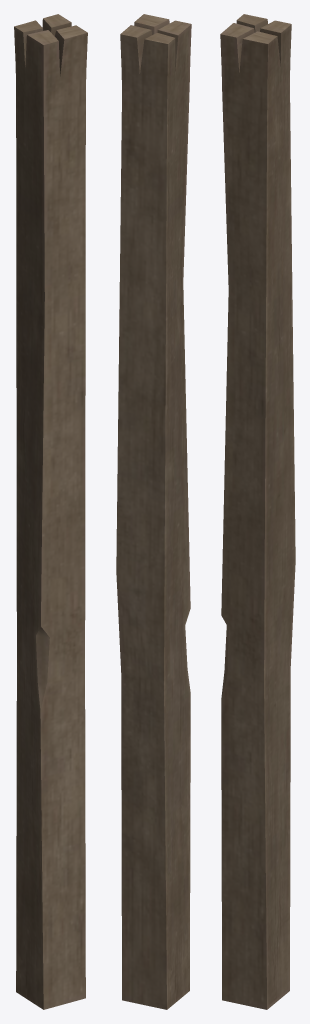
File: sign2_pole.glb
3 renders of one model, left to right at view 1: azimuth 30°, elevation 25°; view 2: azimuth 150°, elevation 25°; view 3: azimuth 330°, elevation 25°, orthographic.
Parts seen in each view (by area): view 1: defaultMaterial.025; view 2: defaultMaterial.025; view 3: defaultMaterial.025.
Part boxes in pixels (bbox=[...]): defaultMaterial.025: bbox=[14, 14, 87, 1009]; defaultMaterial.025: bbox=[116, 14, 191, 1009]; defaultMaterial.025: bbox=[220, 14, 295, 1009].
Bounding box in the file's own units: 0.1363 × 2.56 × 0.1404.
1 material, 1 textured.
